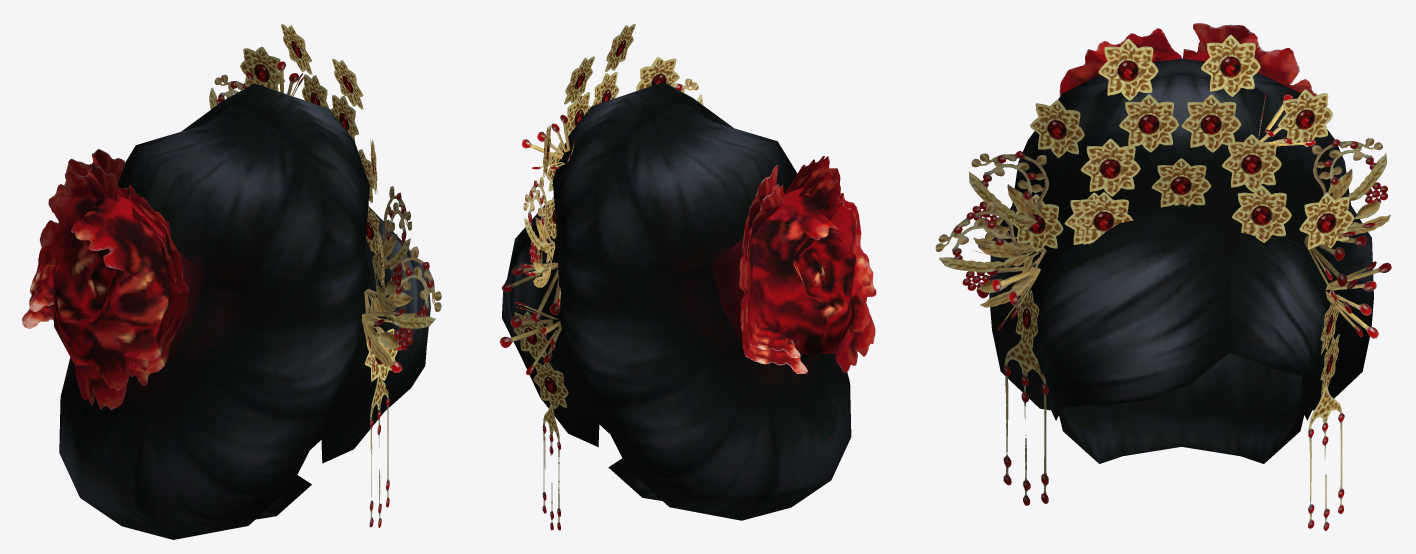
The model's file is hanhat_5000001.FBX.
3 views of the same model, side by side, from view 1: azimuth 30°, elevation 25°; view 2: azimuth 150°, elevation 25°; view 3: azimuth 270°, elevation 25° (orthographic). The views are drawn at different scales.
Visible parts, largest first — view 1: hanhat_5000001; view 2: hanhat_5000001; view 3: hanhat_5000001.
Part boxes in pixels (<box>): hanhat_5000001: <box>22,24,441,539</box>; hanhat_5000001: <box>499,23,876,530</box>; hanhat_5000001: <box>935,23,1391,530</box>.
Size of the model in its own units: 29.81 by 37.18 by 33.12.
